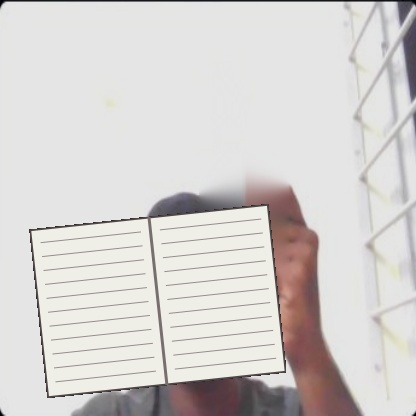book: (29, 204, 286, 398)
